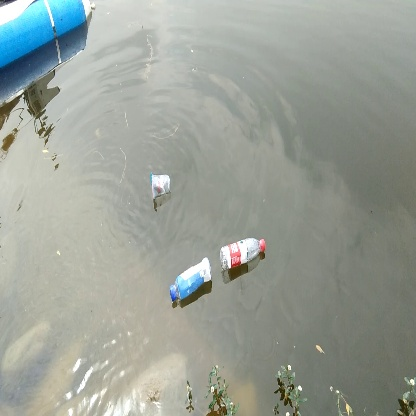bottle: (164, 256, 214, 306), (218, 234, 272, 273), (145, 168, 174, 202)
